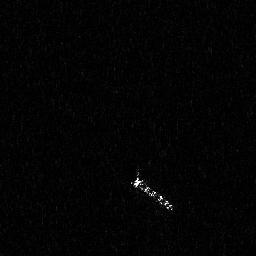ship: (129, 172, 174, 214)
